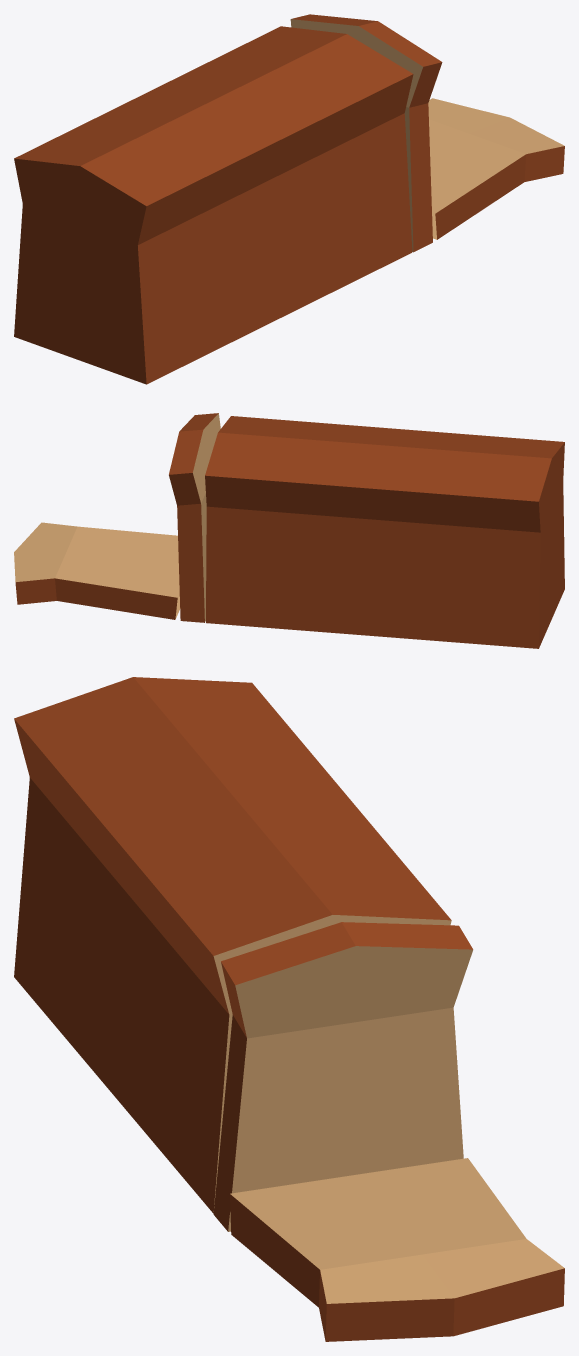
File: Loaf.fbx
3 renders of one model, top to bottom at view 1: azimuth 30°, elevation 25°; view 2: azimuth 150°, elevation 25°; view 3: azimuth 270°, elevation 25°, orthographic. The views are drawn at different scales.
Visible parts, largest first — view 1: Loaf; view 2: Loaf; view 3: Loaf.
Part boxes in pixels (left/top/right/bottom): Loaf: left=14, top=14, right=564, bottom=384; Loaf: left=14, top=413, right=564, bottom=648; Loaf: left=14, top=677, right=564, bottom=1341.
Bounding box in the file's own units: 0.4376 × 0.1425 × 0.2497.
Materials: 1 (1 with a texture image).
